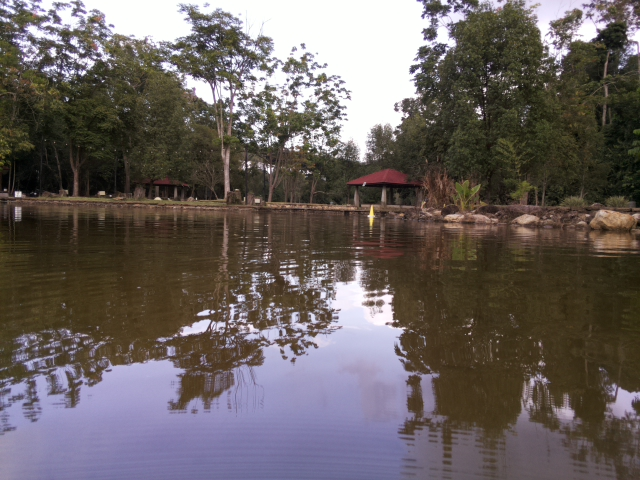checkpoint: (364, 203, 378, 219)
